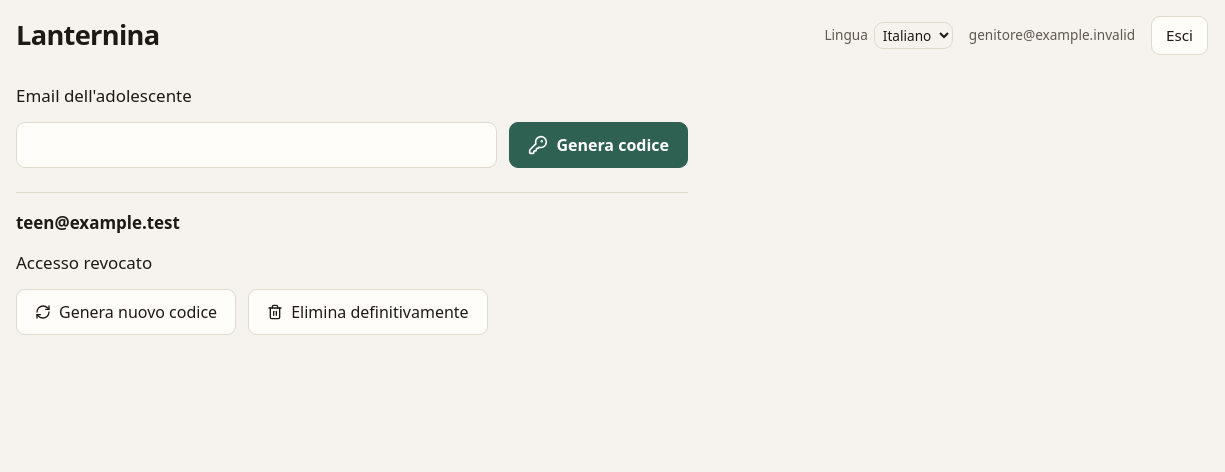
Test case: removes the revoked membership rather than only one of its old invitations and permits retry
Expected: the text "teen@example.test" is shown, [16,211,180,234]
Click the button "Elimina definitivamente". click: (368,312)
box: [248,289,488,335]
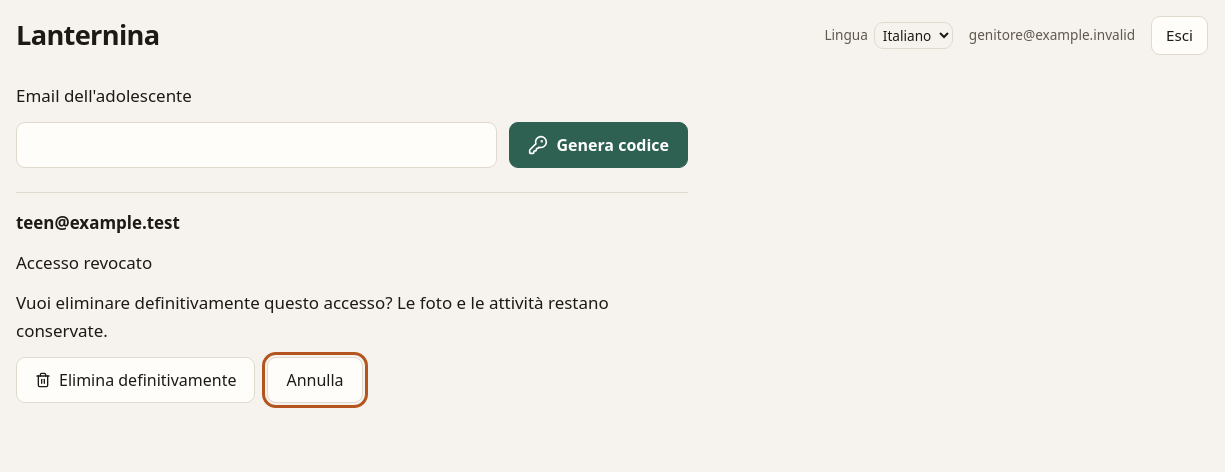
Click the button "Elimina definitivamente". click: (136,380)
box: [16,357,256,403]
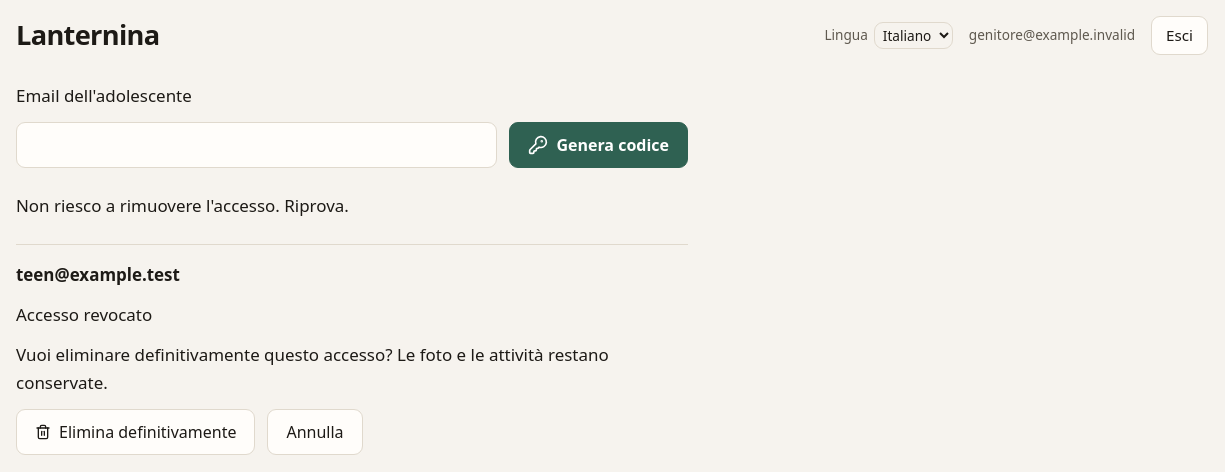
Expected: the text "teen@example.test" is shown, [16,263,180,286]
Expected: the text "Non riesco a rimuovere l'accesso. Riprova." is shown, [16,194,349,217]
Click the button "Elimina definitivamente". click: (136,432)
box: [16,409,256,455]
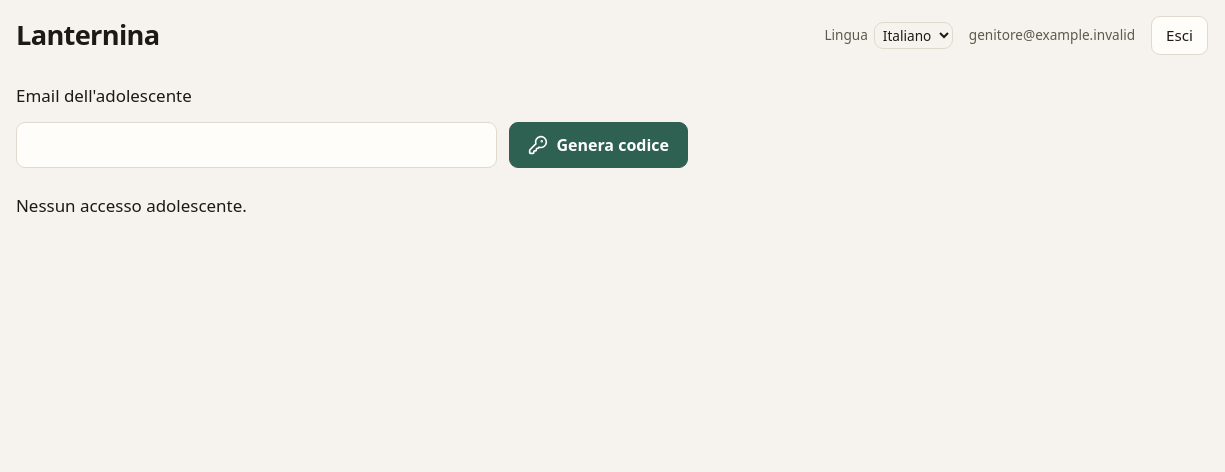
Expected: the text "Nessun accesso adolescente." is shown, [16,194,247,217]
